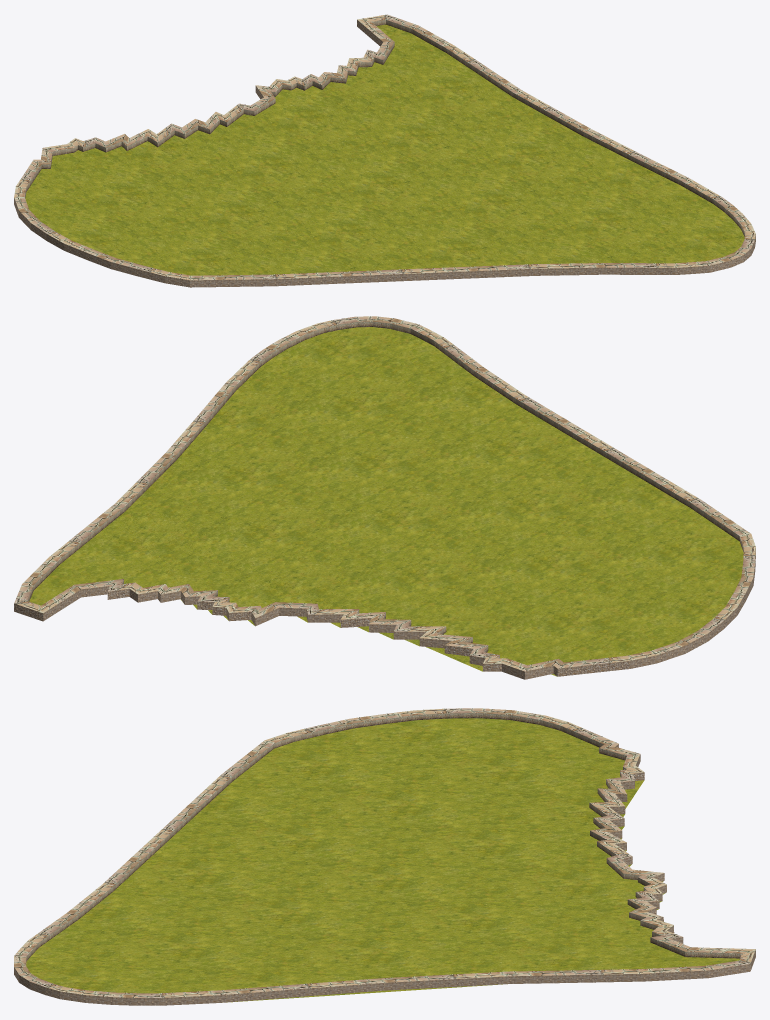
The model's file is sacsaywamannivel1.fbx.
3 renders of one model, top to bottom at view 1: azimuth 30°, elevation 25°; view 2: azimuth 150°, elevation 25°; view 3: azimuth 270°, elevation 25°, orthographic. The views are drawn at different scales.
Visible parts, largest first — view 1: Nivel1; view 2: Nivel1; view 3: Nivel1.
Boxes of the visible parts, bbox=[...] form: Nivel1: bbox=[14, 14, 755, 287]; Nivel1: bbox=[14, 316, 755, 679]; Nivel1: bbox=[14, 708, 755, 1005].
Bounding box in the file's own units: 72511 × 907 × 78450.
